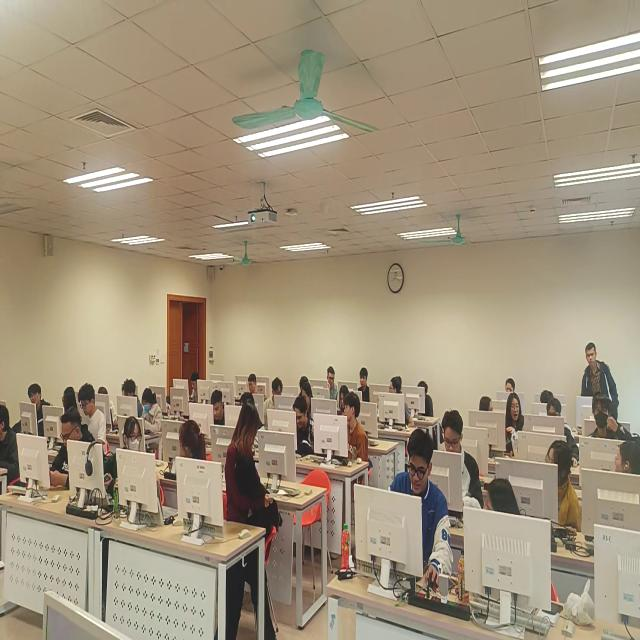raise_hand: (592, 395, 631, 438)
raise_head: (585, 394, 632, 461), (500, 392, 528, 461), (16, 385, 50, 433), (354, 367, 376, 402), (245, 374, 261, 400), (502, 378, 517, 399)
stand: (224, 399, 266, 639), (580, 343, 619, 433)
using_computer: (374, 429, 453, 600), (22, 412, 98, 507), (530, 442, 585, 536), (437, 409, 484, 518), (543, 400, 583, 466), (286, 397, 318, 462), (136, 385, 166, 445), (200, 385, 231, 442), (73, 384, 105, 437), (409, 380, 439, 428), (176, 371, 205, 412), (118, 379, 137, 420), (321, 363, 338, 402), (333, 387, 350, 417)
